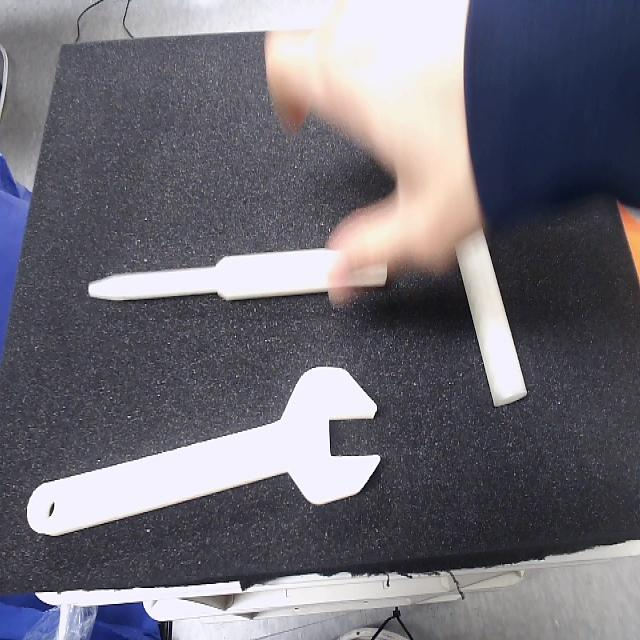Spanner: (26, 368, 382, 536)
